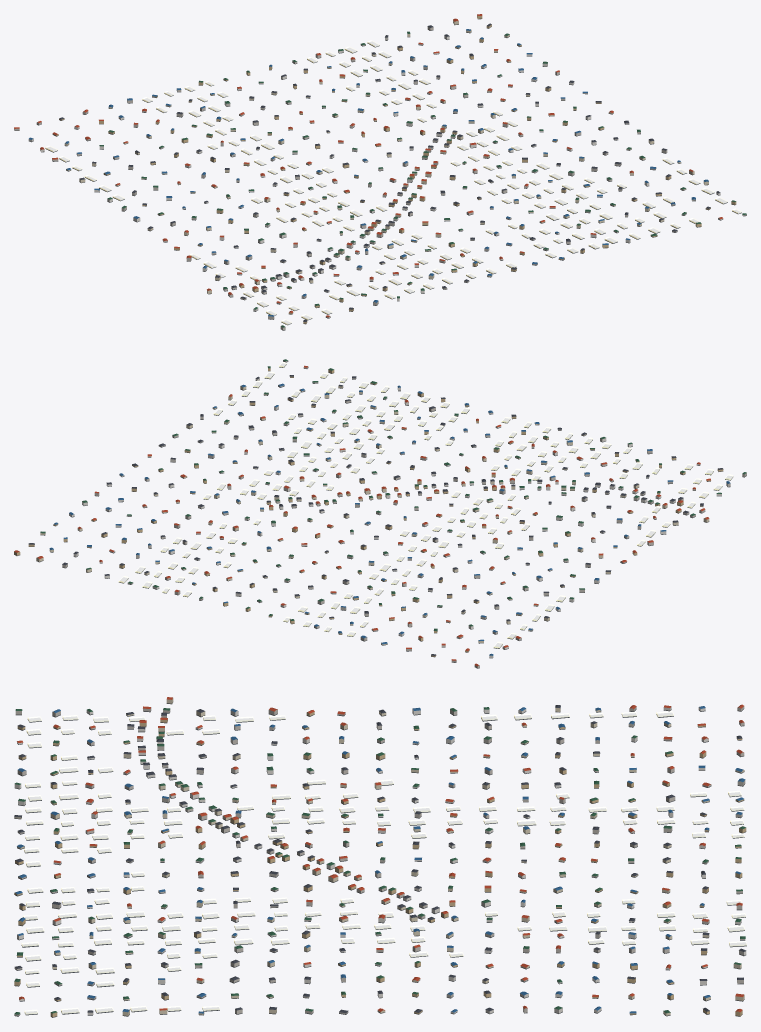
File: buildings_T_E01_S07.glb
3 renders of one model, top to bottom at view 1: azimuth 30°, elevation 25°; view 2: azimuth 150°, elevation 25°; view 3: azimuth 270°, elevation 25°, orthographic. The views are drawn at different scales.
Parts seen in each view (by area): view 1: T_E01_S07_slope_seating_foundations, T_E01_S07_roofs_agri_greenhouse_arch, T_E01_S07_walls_wall_pastel_sand_gray, T_E01_S07_walls_wall_french_ochre_villa, T_E01_S07_walls_wall_dalat_cream_stucco, T_E01_S07_roofs_roof_slate_French_villa_hip, T_E01_S07_walls_wall_modern_warm_white, T_E01_S07_roofs_roof_terracotta_gable, T_E01_S07_roofs_roof_pine_green_hip, T_E01_S07_roofs_roof_highland_blue_gable; view 2: T_E01_S07_slope_seating_foundations, T_E01_S07_roofs_agri_greenhouse_arch, T_E01_S07_walls_wall_pastel_sand_gray, T_E01_S07_walls_wall_french_ochre_villa, T_E01_S07_walls_wall_dalat_cream_stucco, T_E01_S07_roofs_roof_slate_French_villa_hip, T_E01_S07_walls_wall_modern_warm_white, T_E01_S07_roofs_roof_terracotta_gable, T_E01_S07_roofs_roof_pine_green_hip, T_E01_S07_roofs_roof_highland_blue_gable; view 3: T_E01_S07_slope_seating_foundations, T_E01_S07_roofs_agri_greenhouse_arch, T_E01_S07_walls_wall_pastel_sand_gray, T_E01_S07_walls_wall_french_ochre_villa, T_E01_S07_walls_wall_dalat_cream_stucco, T_E01_S07_roofs_roof_slate_French_villa_hip, T_E01_S07_walls_wall_modern_warm_white, T_E01_S07_roofs_roof_terracotta_gable, T_E01_S07_roofs_roof_pine_green_hip, T_E01_S07_roofs_roof_highland_blue_gable.
Part boxes in pixels (x1,y1,x2,y2): T_E01_S07_slope_seating_foundations: (14,18,746,330); T_E01_S07_roofs_agri_greenhouse_arch: (45,40,741,324); T_E01_S07_walls_wall_pastel_sand_gray: (14,26,746,330); T_E01_S07_walls_wall_french_ochre_villa: (52,15,736,323); T_E01_S07_walls_wall_dalat_cream_stucco: (64,20,708,299); T_E01_S07_roofs_roof_slate_French_villa_hip: (59,23,720,321); T_E01_S07_walls_wall_modern_warm_white: (28,35,723,318); T_E01_S07_roofs_roof_terracotta_gable: (14,14,722,317); T_E01_S07_roofs_roof_pine_green_hip: (99,31,746,327); T_E01_S07_roofs_roof_highland_blue_gable: (29,29,708,316); T_E01_S07_slope_seating_foundations: (14,361,746,668); T_E01_S07_roofs_agri_greenhouse_arch: (118,362,733,648); T_E01_S07_walls_wall_pastel_sand_gray: (62,360,746,668); T_E01_S07_walls_wall_french_ochre_villa: (14,368,723,656); T_E01_S07_walls_wall_dalat_cream_stucco: (36,386,709,645); T_E01_S07_roofs_roof_slate_French_villa_hip: (28,375,723,655); T_E01_S07_walls_wall_modern_warm_white: (69,366,721,657); T_E01_S07_roofs_roof_terracotta_gable: (14,365,710,666); T_E01_S07_roofs_roof_pine_green_hip: (40,359,746,631); T_E01_S07_roofs_roof_highland_blue_gable: (49,383,730,655); T_E01_S07_slope_seating_foundations: (14,702,746,1017); T_E01_S07_roofs_agri_greenhouse_arch: (21,711,746,1014); T_E01_S07_walls_wall_pastel_sand_gray: (14,706,745,1015); T_E01_S07_walls_wall_french_ochre_villa: (14,712,746,1017); T_E01_S07_walls_wall_dalat_cream_stucco: (14,698,744,1015); T_E01_S07_roofs_roof_slate_French_villa_hip: (14,705,746,1013); T_E01_S07_walls_wall_modern_warm_white: (14,706,746,1014); T_E01_S07_roofs_roof_terracotta_gable: (17,697,744,1012); T_E01_S07_roofs_roof_pine_green_hip: (14,707,745,1014); T_E01_S07_roofs_roof_highland_blue_gable: (15,706,745,1013).
Size of the model in its own units: 1813 by 34.59 by 1750.
